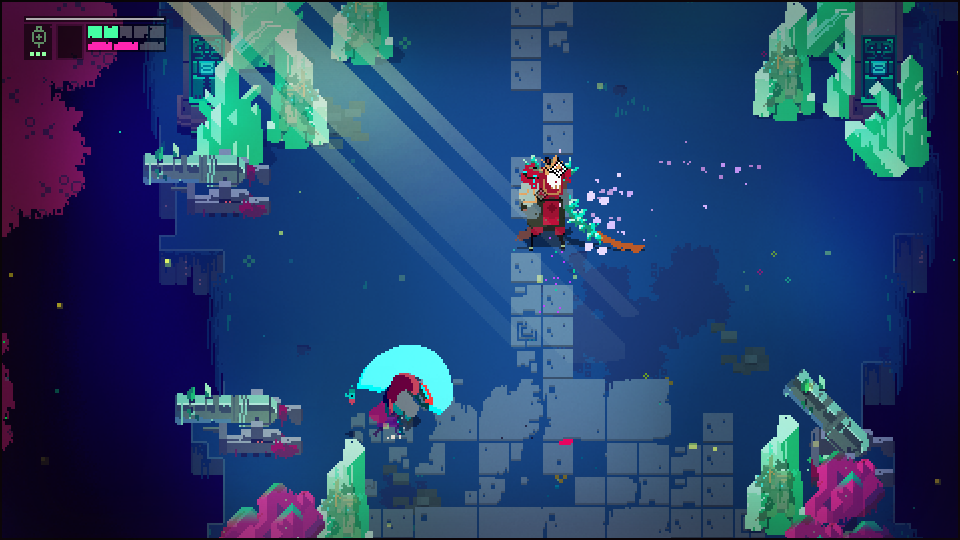hanged_man: (515, 150, 625, 258)
player: (357, 342, 459, 437)
